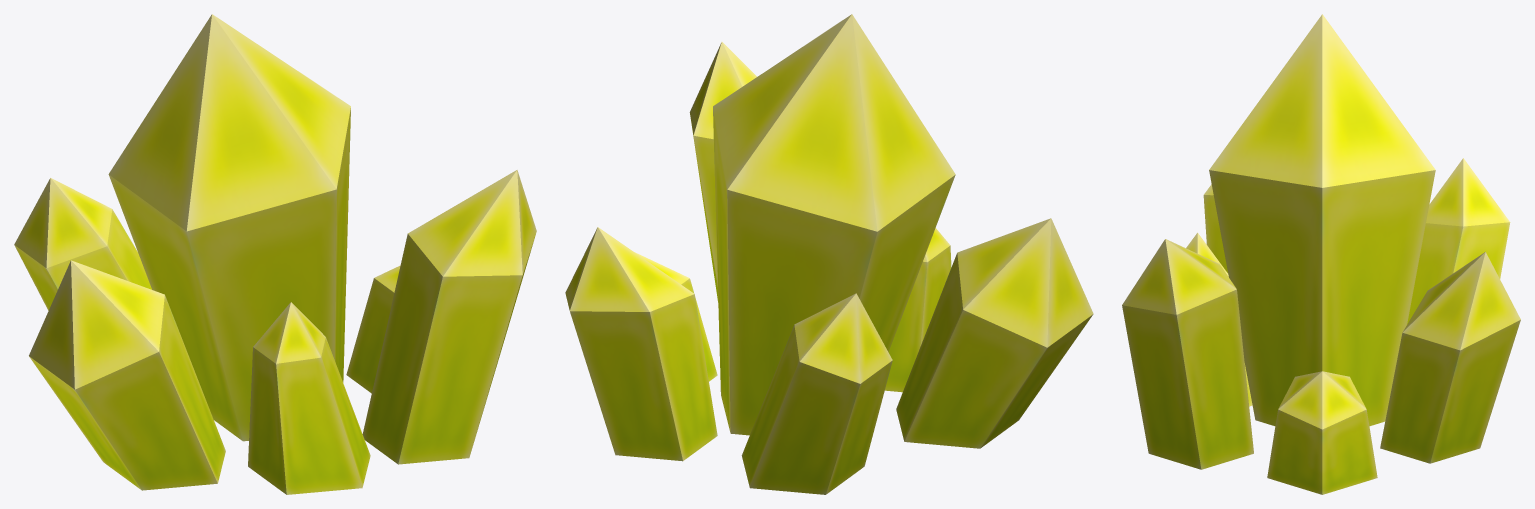
Rendered from CrystalOre_01_b.fbx.
The picture shows the model from 3 angles, left to right: view 1: azimuth 30°, elevation 25°; view 2: azimuth 150°, elevation 25°; view 3: azimuth 270°, elevation 25°; orthographic projection. The views are drawn at different scales.
Visible parts, largest first — view 1: CrystalOre_01_b; view 2: CrystalOre_01_b; view 3: CrystalOre_01_b.
Part boxes in pixels (box(x1,y1,x2,y2)): CrystalOre_01_b: box(14, 14, 536, 494); CrystalOre_01_b: box(565, 14, 1093, 494); CrystalOre_01_b: box(1122, 14, 1520, 494).
Bounding box in the file's own units: 81.74 × 72.27 × 70.71.
Materials: 1 (1 with a texture image).
